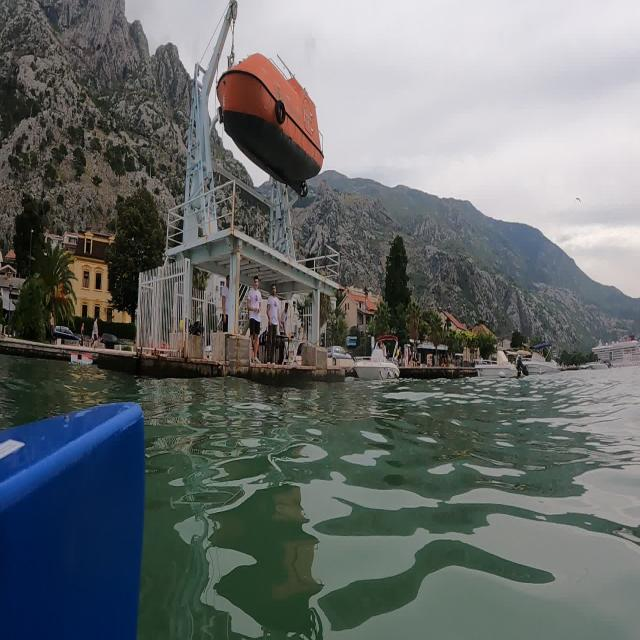boat: (347, 334, 410, 395), (467, 345, 523, 391), (586, 330, 640, 376), (522, 334, 571, 381)
